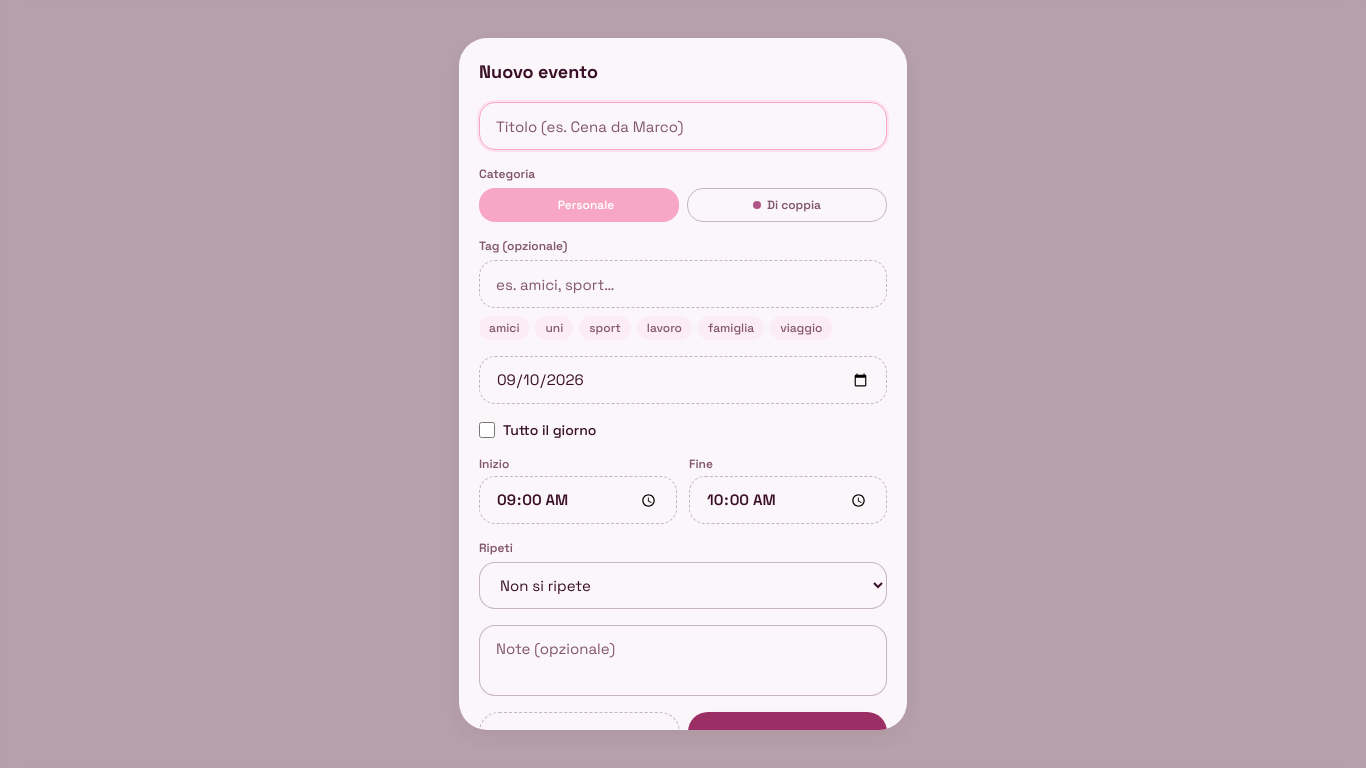
it: EventFormModal — ricorrenza generale ('Ripeti') › selezionare una frequenza mostra l'intervallo e le tre opzioni di fine (default 'Mai') più l'anteprima live
This screenshot has width=1366, height=768.
Step 1. Select "Ogni settimana" in the dropdown named "Ripeti" → (683, 586), box [479, 562, 887, 609]
(page scrolled)
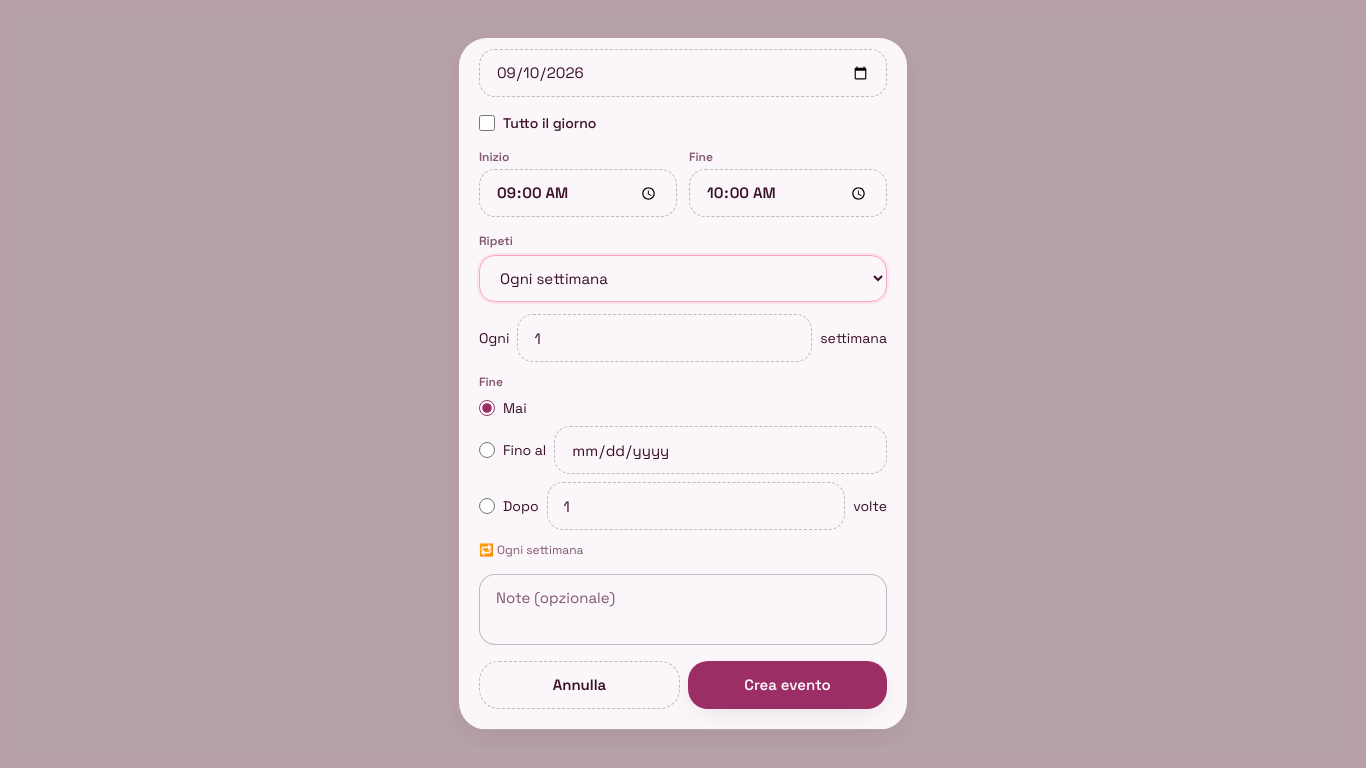
Result: the number field named "Ogni quante unità" holds "1" at [517, 314, 812, 362]
Result: the radio button labelled "Mai" is checked at [479, 400, 495, 416]
Result: the radio button labelled "Fino al" is not checked at [479, 442, 495, 458]
